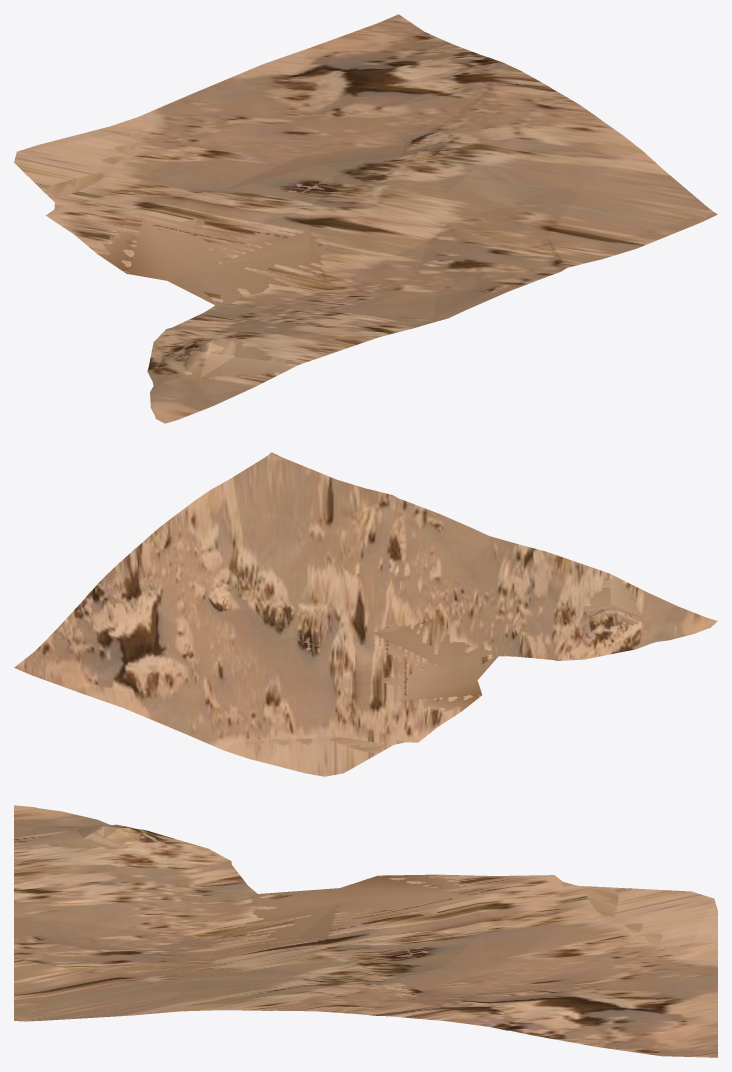
3 views of the same model, one above another, from view 1: azimuth 30°, elevation 25°; view 2: azimuth 150°, elevation 25°; view 3: azimuth 270°, elevation 25° (orthographic). The views are drawn at different scales.
Bounding box in the file's own units: 1.04 × 0.155 × 1.04.
Materials: 2 (2 with a texture image).
